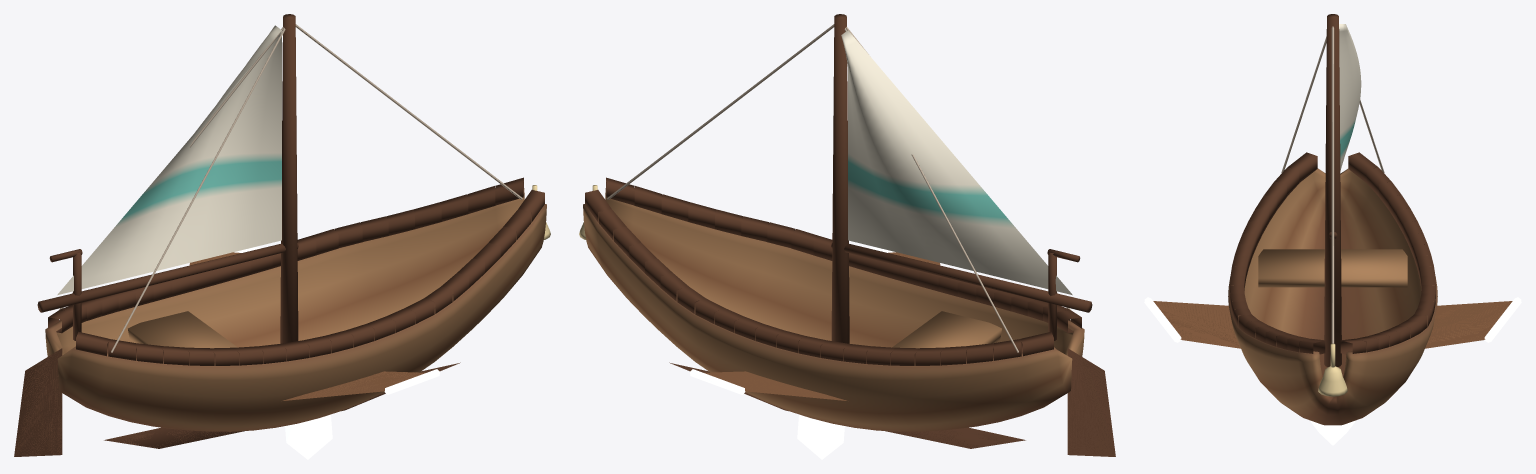
File: skiff.glb
The picture shows the model from 3 angles, left to right: view 1: azimuth 30°, elevation 25°; view 2: azimuth 150°, elevation 25°; view 3: azimuth 270°, elevation 25°; orthographic projection. The views are drawn at different scales.
Parts seen in each view (by area): view 1: Hull, Sail, Rail, Mast, Rudder, Bench, Rigging, Keel, FinL, Core, SternPost; view 2: Hull, Sail, Rail, Mast, Rudder, Bench, Keel, Rigging, FinR, Core, SternPost; view 3: Hull, Rail, Bench, Mast, FinL, FinR, Sail, Rigging, Bell, Core, FinGlowL, FinGlowR.
Boxes of the visible parts, x1,y1,x2,y2 form: Hull: (45, 188, 546, 431); Sail: (57, 25, 281, 295); Rail: (48, 177, 544, 365); Mast: (37, 14, 298, 343); Rudder: (14, 348, 62, 456); Bench: (128, 311, 237, 348); Rigging: (59, 24, 522, 352); Keel: (104, 362, 460, 448); FinL: (283, 371, 426, 400); Core: (285, 414, 332, 459); SternPost: (49, 249, 82, 340); Hull: (583, 188, 1084, 431); Sail: (841, 30, 1072, 295); Rail: (585, 177, 1081, 365); Mast: (831, 14, 1092, 343); Rudder: (1067, 348, 1115, 456); Bench: (892, 311, 1001, 348); Keel: (669, 362, 1025, 448); Rigging: (607, 24, 1070, 352); FinR: (703, 371, 846, 400); Core: (797, 414, 844, 459); SternPost: (1047, 249, 1080, 340); Hull: (1228, 168, 1437, 425); Rail: (1230, 152, 1435, 354); Bench: (1258, 249, 1407, 287); Mast: (1324, 14, 1341, 366); FinL: (1153, 301, 1240, 348); FinR: (1425, 301, 1512, 348); Sail: (1339, 24, 1361, 170); Rigging: (1281, 26, 1384, 343); Bell: (1318, 366, 1347, 396); Core: (1310, 421, 1355, 445); FinGlowL: (1144, 297, 1181, 342); FinGlowR: (1484, 297, 1521, 342).
Bounding box in the file's own units: 2.88 × 2.3 × 1.87.
